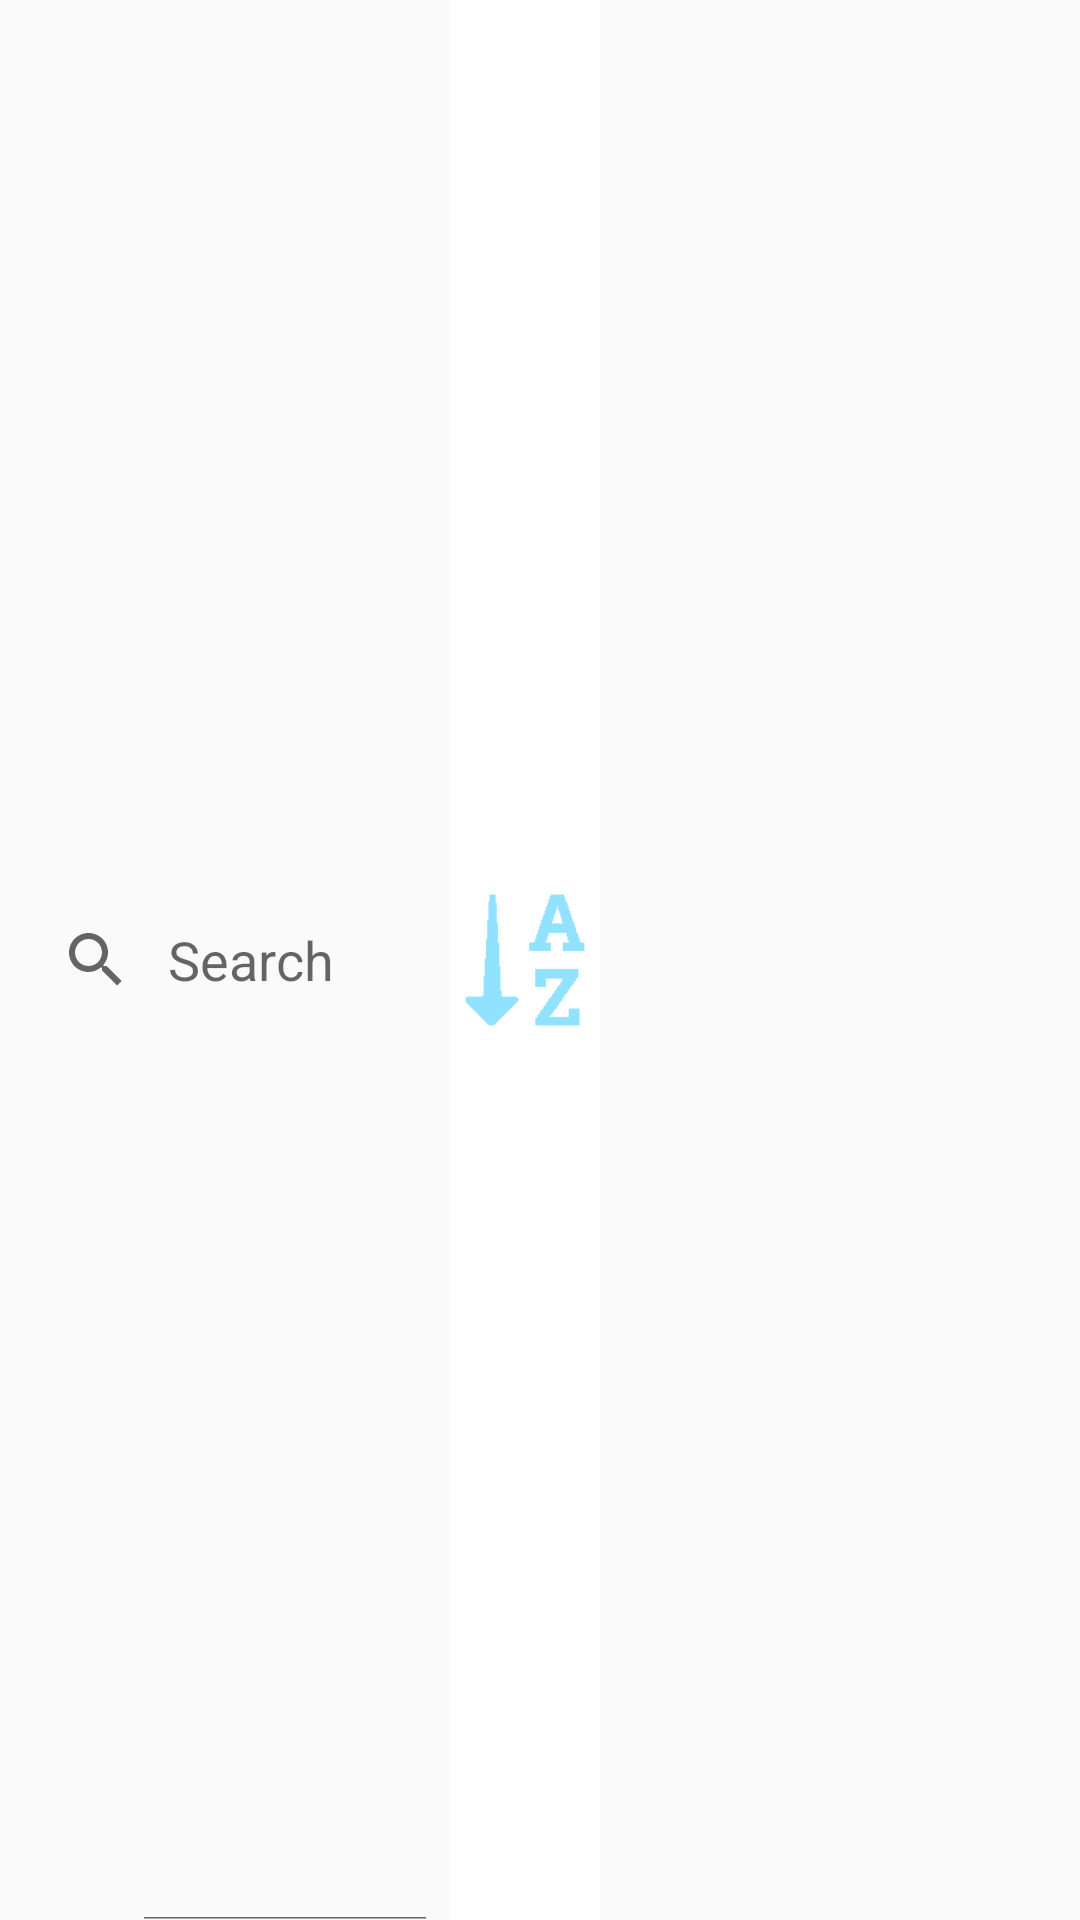

Icon click points for this 1080px x 1920px phone screenshot, format point (x, y):
sort: point (525, 960)
